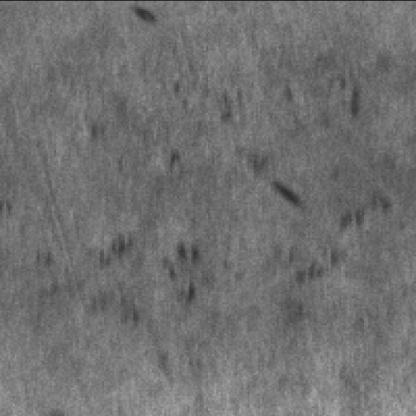rolled-in_scale: (162, 63, 370, 196), (77, 231, 202, 331), (287, 200, 389, 289)
